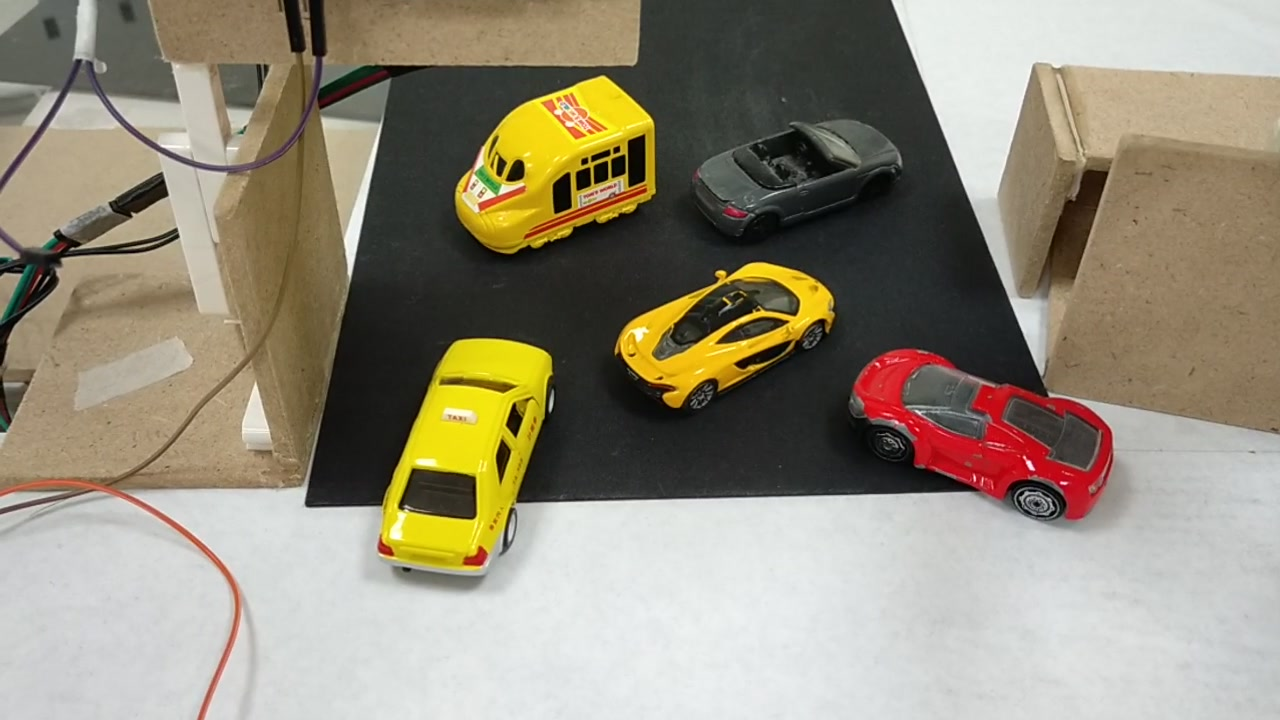car: (848, 348, 1112, 520), (373, 339, 559, 577), (684, 115, 909, 249), (628, 263, 832, 397)
